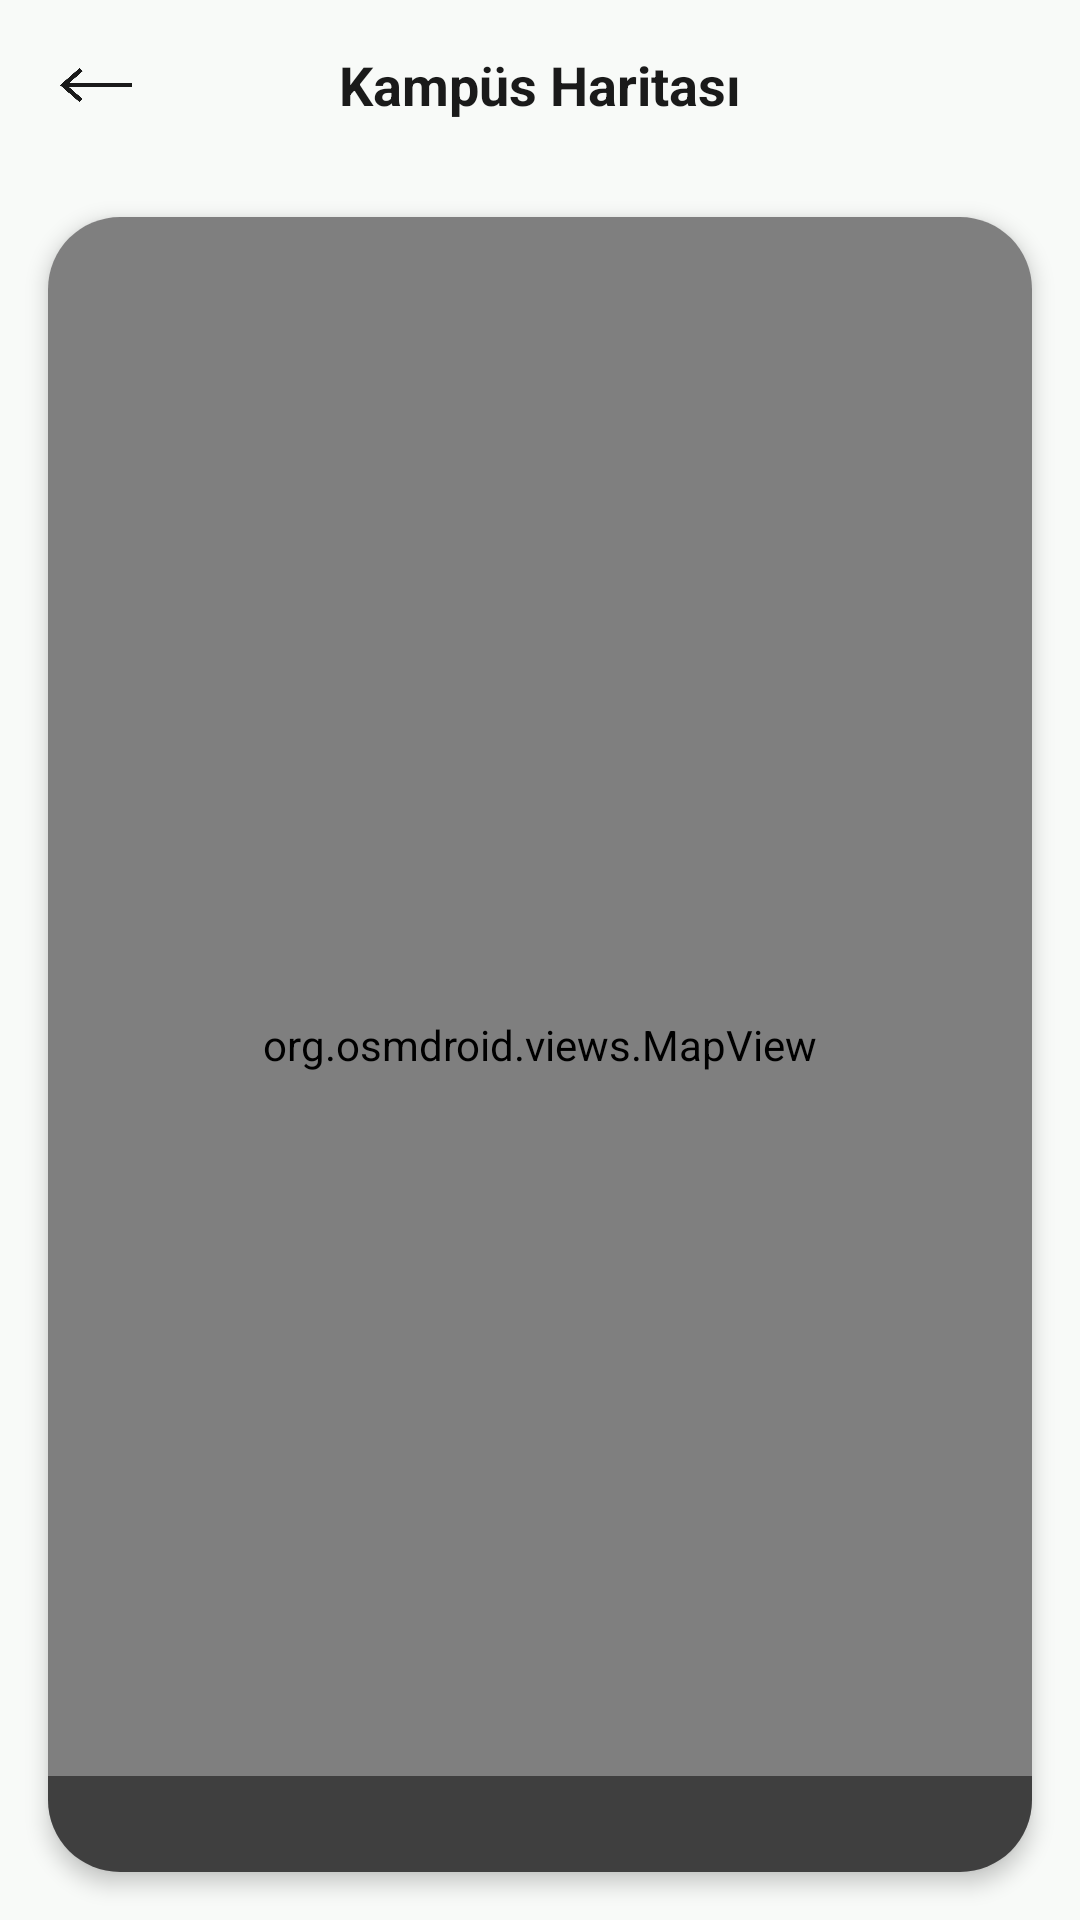

Named icons in this screenshot (1080w x 1920h) and their centers, [x,y]:
Geri: [96,85]
